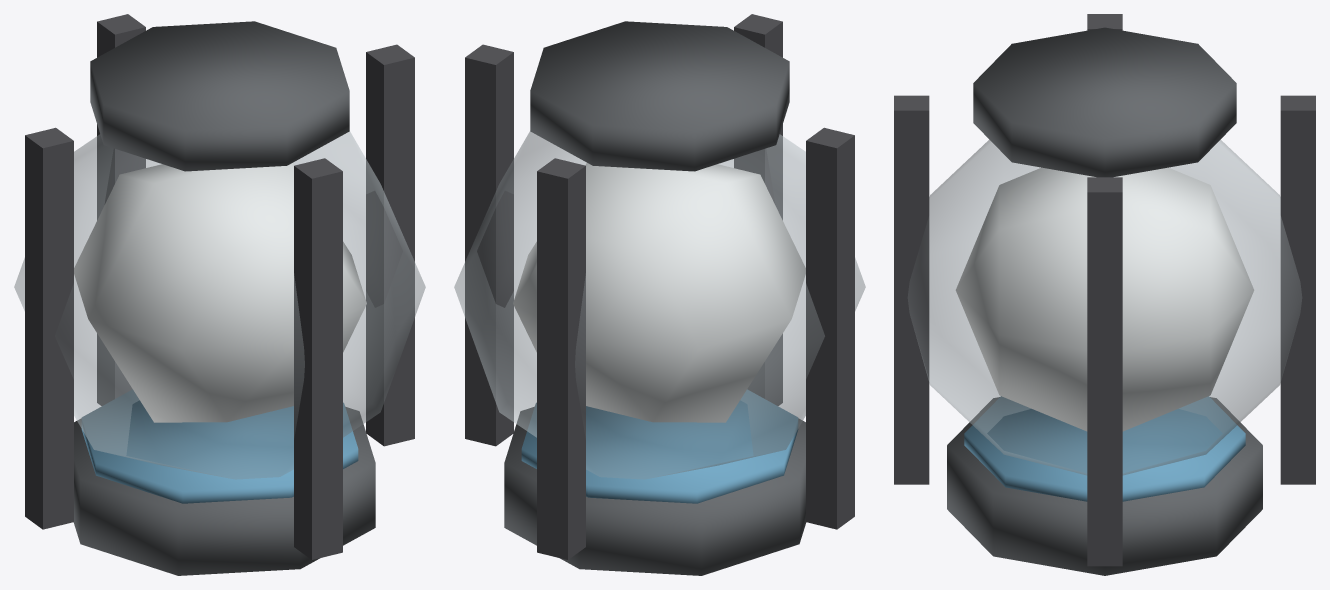
Rendered from obj_core.glb.
3 renders of one model, left to right at view 1: azimuth 30°, elevation 25°; view 2: azimuth 150°, elevation 25°; view 3: azimuth 270°, elevation 25°, orthographic.
Parts seen in each view (by area): view 1: obj_core; view 2: obj_core; view 3: obj_core.
Boxes of the visible parts, bbox=[...] form: obj_core: bbox=[14, 14, 425, 575]; obj_core: bbox=[454, 14, 865, 575]; obj_core: bbox=[894, 14, 1315, 575].
Bounding box in the file's own units: 0.96 × 1.07 × 0.96.
